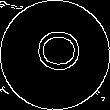O_W: (29, 32, 81, 78)
